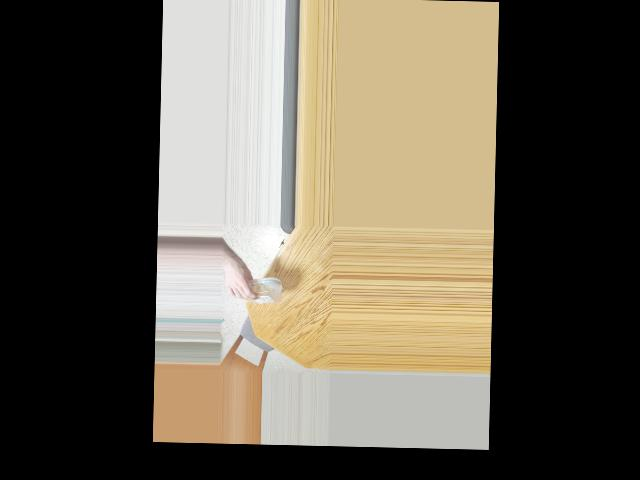cheese: (244, 260, 283, 313)
